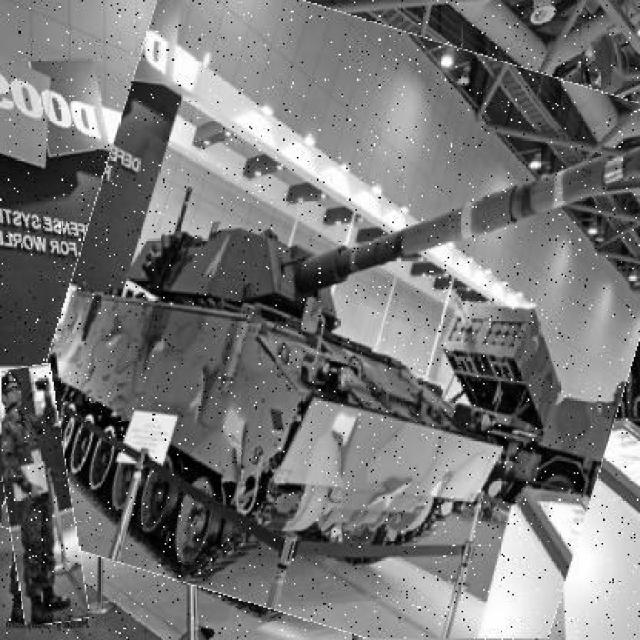Person: (3, 366, 81, 626)
Tank: (33, 1, 640, 639)
